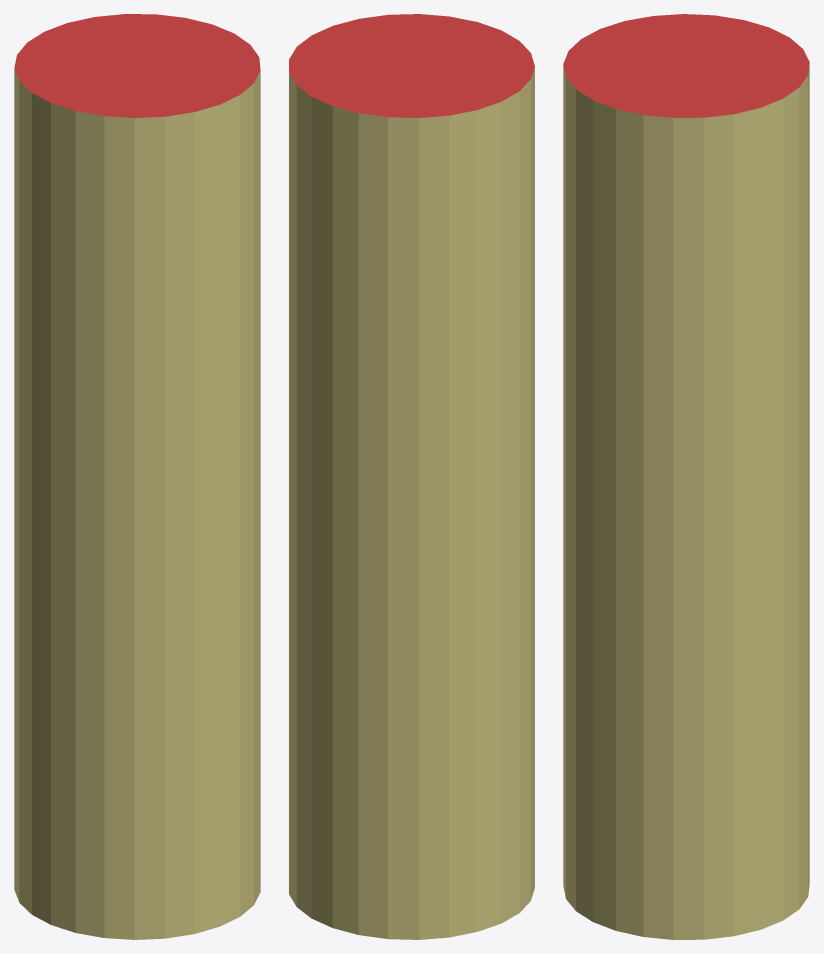
3 renders of one model, left to right at view 1: azimuth 30°, elevation 25°; view 2: azimuth 150°, elevation 25°; view 3: azimuth 270°, elevation 25°, orthographic.
Bounding box in the file's own units: 2.62 × 2.62 × 9.66.
